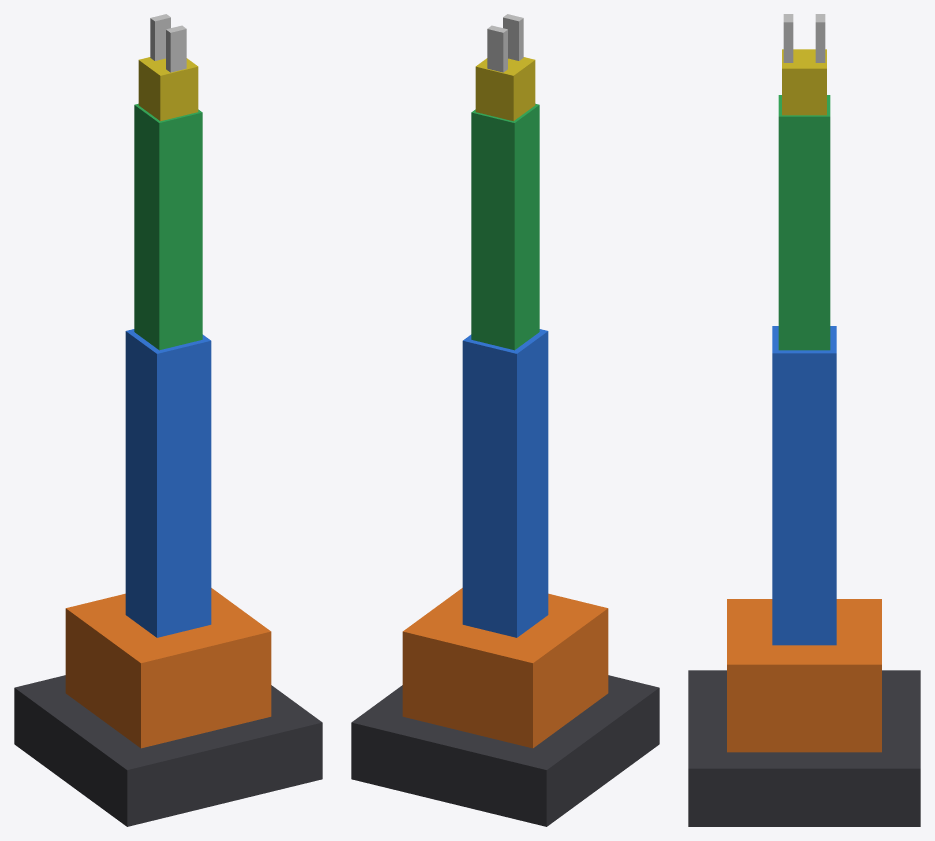
Rendered from test_arm.glb.
3 views of the same model, side by side, from view 1: azimuth 30°, elevation 25°; view 2: azimuth 150°, elevation 25°; view 3: azimuth 270°, elevation 25° (orthographic). The views are drawn at different scales.
Parts seen in each view (by area): view 1: shoulder, base, turntable, elbow, wrist, finger_left, finger_right; view 2: shoulder, base, turntable, elbow, wrist, finger_right, finger_left; view 3: base, turntable, shoulder, elbow, wrist, finger_left, finger_right.
Part boxes in pixels (left/top/right/bottom): shoulder: left=125, top=329, right=211, bottom=637; base: left=14, top=675, right=322, bottom=826; turntable: left=65, top=588, right=271, bottom=748; elbow: left=134, top=103, right=202, bottom=350; wrist: left=138, top=57, right=198, bottom=121; finger_left: left=166, top=25, right=186, bottom=72; finger_right: left=150, top=14, right=170, bottom=60; shoulder: left=462, top=329, right=548, bottom=637; base: left=351, top=675, right=659, bottom=826; turntable: left=402, top=588, right=608, bottom=748; elbow: left=471, top=103, right=539, bottom=350; wrist: left=475, top=57, right=535, bottom=121; finger_right: left=487, top=25, right=507, bottom=72; finger_left: left=503, top=14, right=523, bottom=60; base: left=688, top=670, right=920, bottom=826; turntable: left=727, top=599, right=881, bottom=752; shoulder: left=772, top=326, right=836, bottom=645; elbow: left=778, top=95, right=830, bottom=350; wrist: left=782, top=49, right=826, bottom=115; finger_left: left=783, top=14, right=793, bottom=62; finger_right: left=815, top=14, right=825, bottom=62.
Size of the model in its own units: 0.36 by 1.3 by 0.36.
